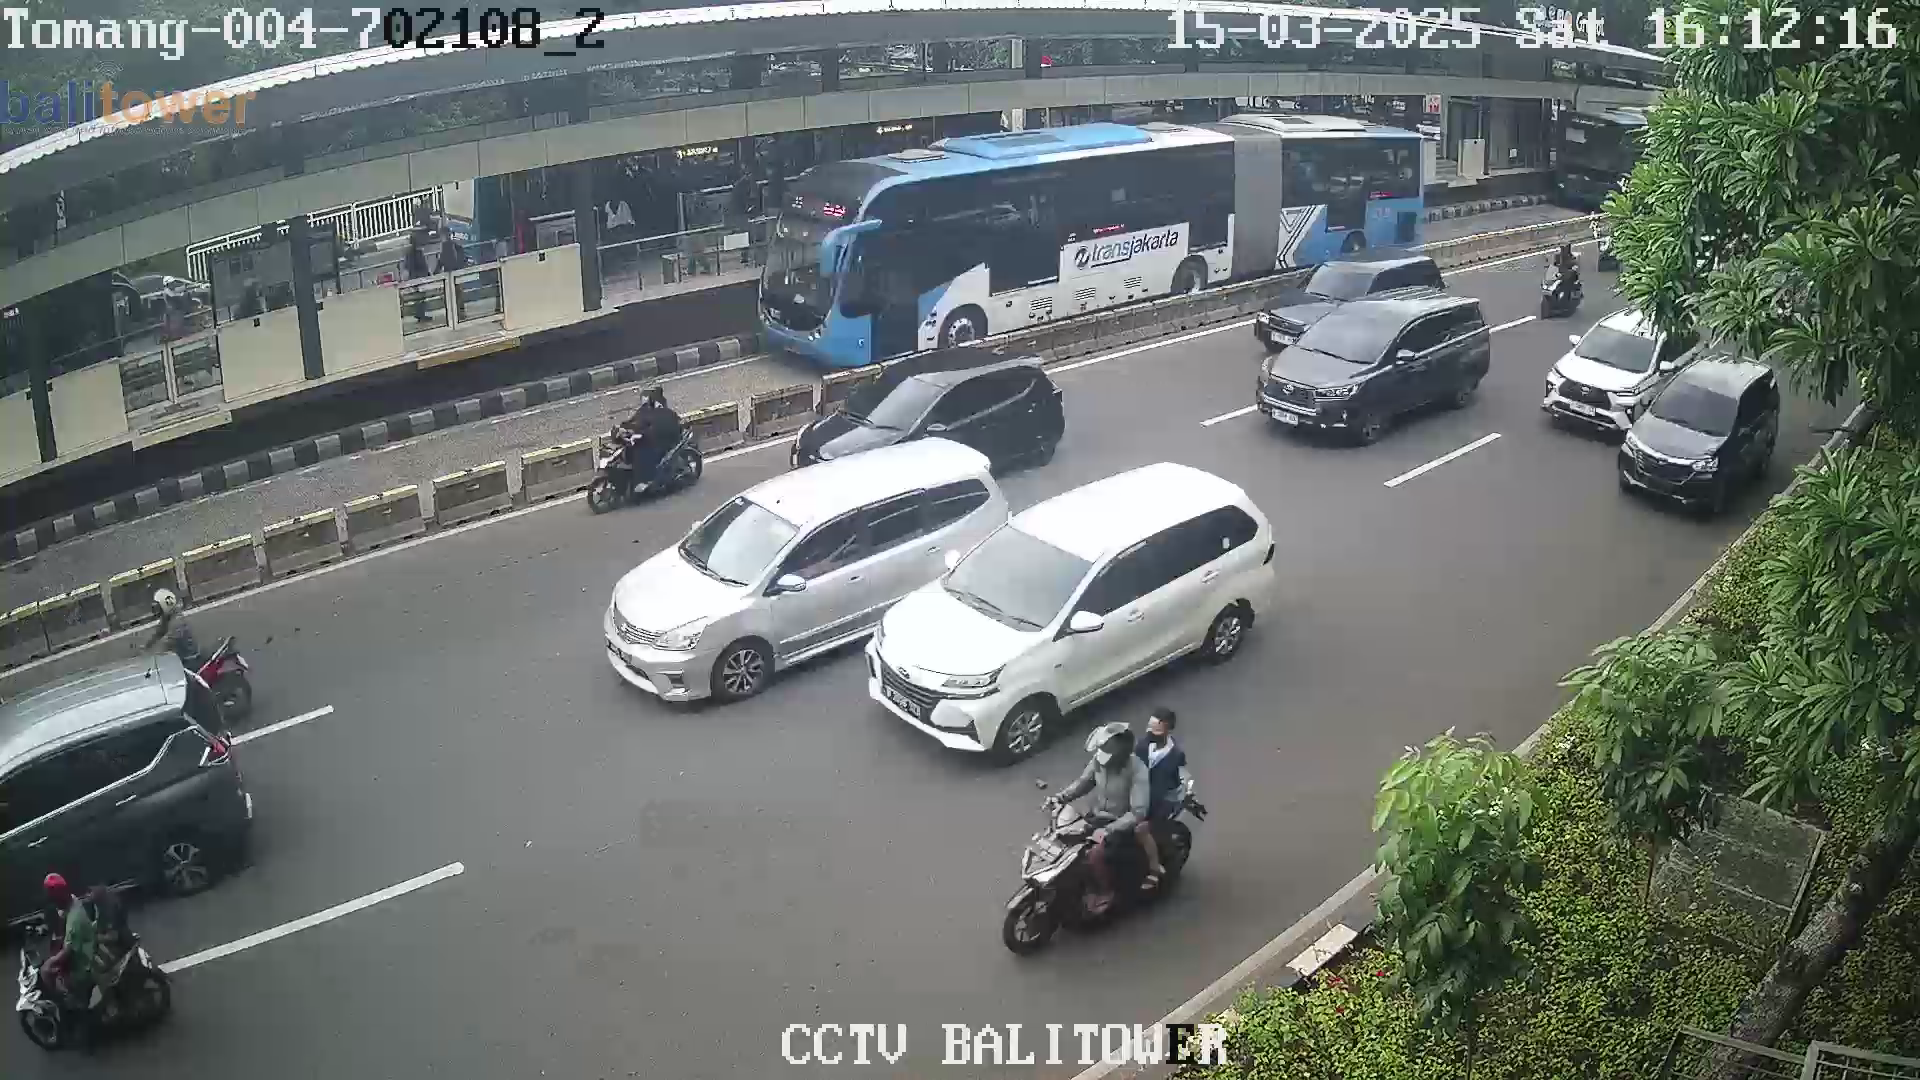half-face helmet: (1084, 720, 1137, 773), (149, 586, 198, 622), (37, 867, 68, 906), (637, 380, 666, 414)
no helmet: (1143, 698, 1184, 765)
